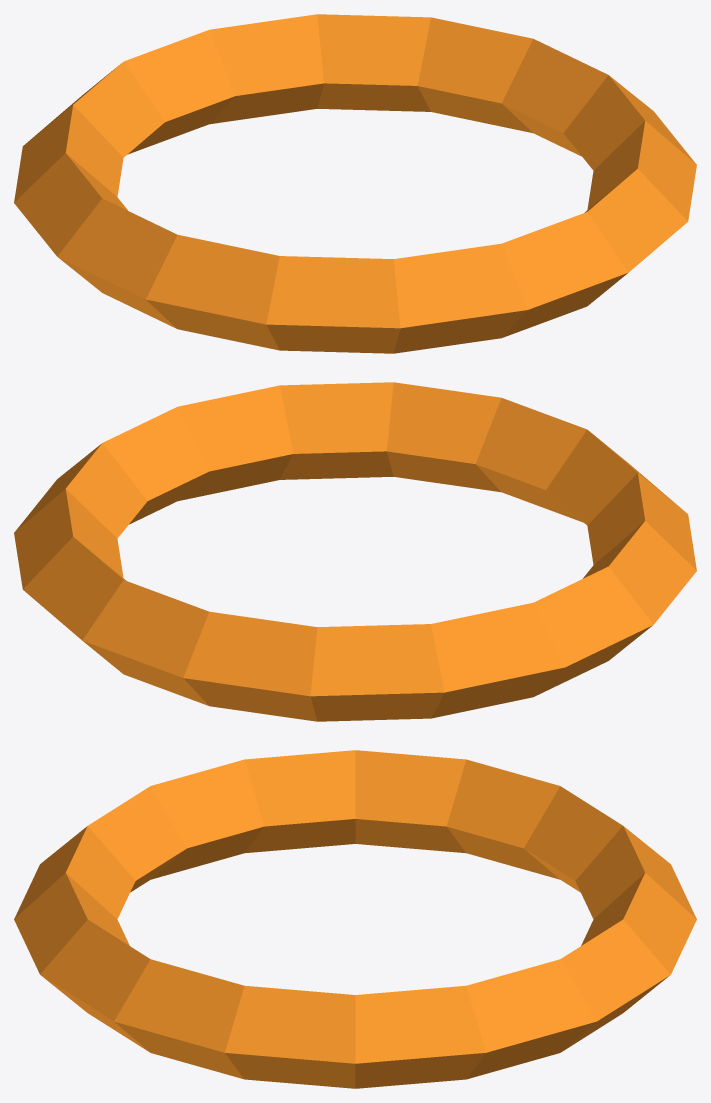
Rendered from toss_ring.glb.
3 views of the same model, one above another, from view 1: azimuth 30°, elevation 25°; view 2: azimuth 150°, elevation 25°; view 3: azimuth 270°, elevation 25° (orthographic).
Parts seen in each view (by area): view 1: toss_ring; view 2: toss_ring; view 3: toss_ring.
Part boxes in pixels (<box>): toss_ring: <box>14,14,696,353</box>; toss_ring: <box>14,382,696,721</box>; toss_ring: <box>14,750,696,1088</box>.
Bounding box in the file's own units: 0.33 × 0.05 × 0.33.
